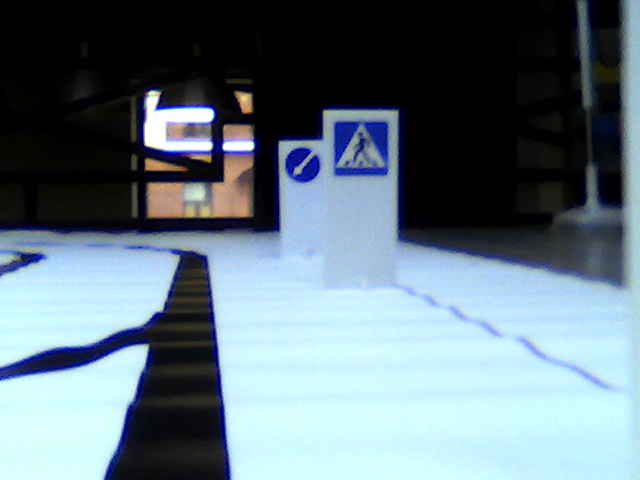pesh: (328, 121, 390, 177)
prep: (285, 144, 321, 186)
